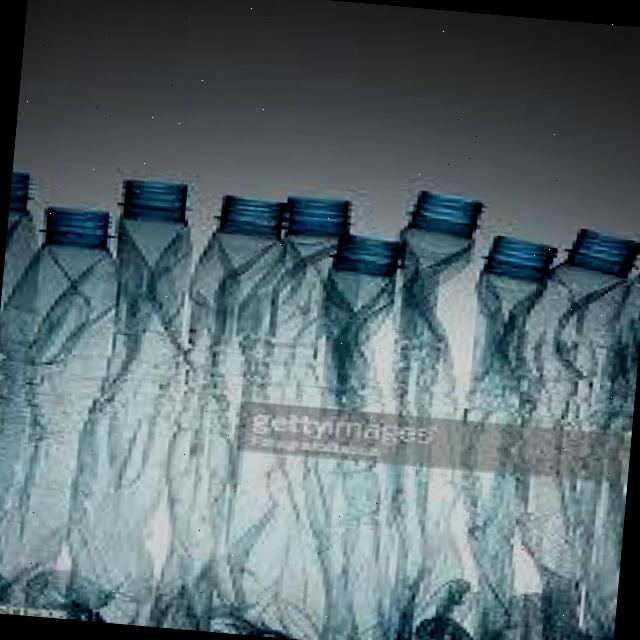trash: (343, 179, 520, 640), (62, 170, 225, 630), (268, 226, 435, 640), (137, 189, 292, 635), (0, 194, 146, 623), (428, 228, 580, 640), (227, 188, 363, 640), (496, 216, 622, 640), (563, 248, 640, 640), (0, 165, 44, 613)
